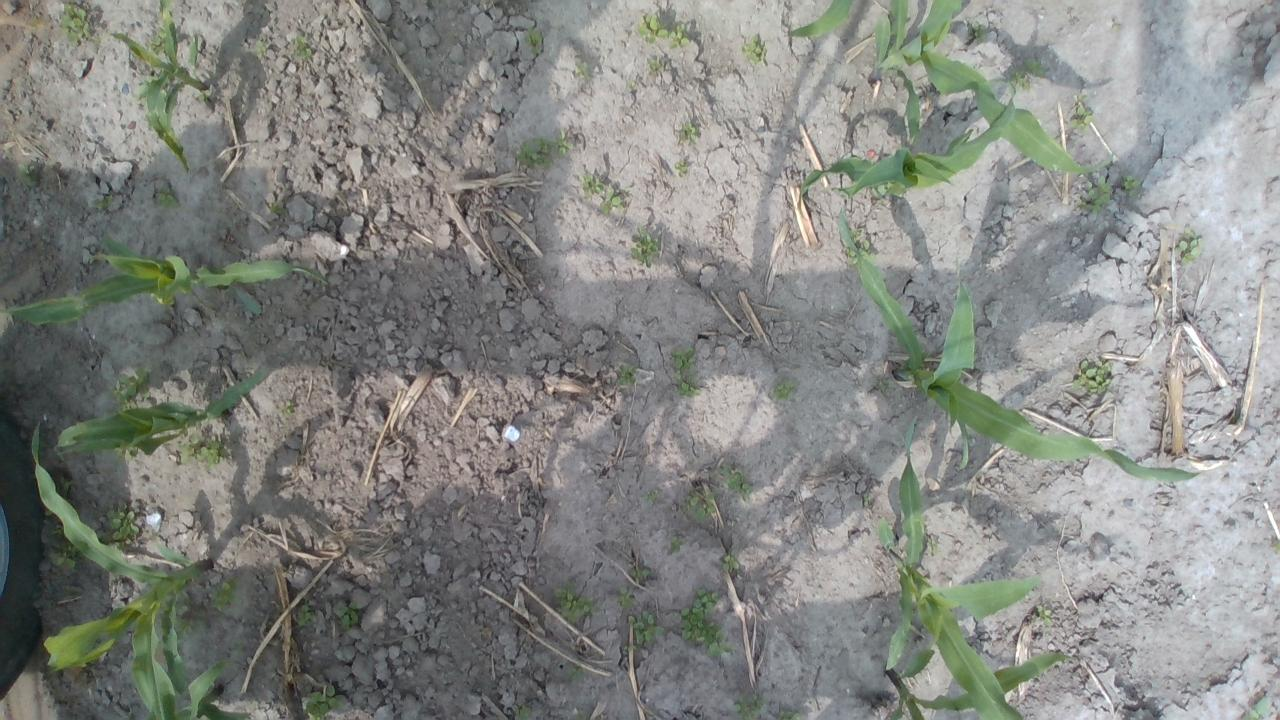Maize: (836, 207, 1208, 490), (785, 0, 1116, 176), (22, 419, 214, 720), (876, 414, 1042, 720), (0, 234, 331, 330), (798, 76, 1019, 204), (61, 367, 272, 455), (107, 0, 208, 173), (878, 647, 1071, 720), (170, 659, 250, 720)
Weeds: (679, 585, 734, 656), (176, 434, 231, 472), (110, 366, 150, 412), (554, 582, 594, 626), (105, 503, 140, 552), (672, 346, 702, 400), (59, 2, 92, 48), (1072, 358, 1112, 395), (1078, 174, 1112, 216), (304, 686, 346, 720), (627, 610, 668, 644), (717, 462, 753, 499), (517, 135, 554, 170), (630, 226, 659, 269), (177, 604, 209, 640), (1171, 226, 1201, 264), (686, 491, 721, 521), (844, 230, 873, 266), (334, 598, 362, 634), (637, 14, 669, 44), (213, 578, 243, 610), (734, 692, 768, 720), (1068, 95, 1094, 130), (48, 544, 78, 574), (1239, 694, 1271, 720), (740, 32, 766, 64), (522, 24, 546, 56), (674, 118, 701, 144), (552, 126, 572, 160), (774, 378, 802, 402), (16, 160, 40, 187), (600, 186, 623, 214), (136, 74, 158, 102), (616, 362, 640, 387), (1120, 174, 1143, 198), (292, 34, 312, 61), (149, 24, 166, 55), (578, 174, 604, 194), (670, 24, 690, 49), (1022, 56, 1046, 76), (113, 445, 141, 462), (1008, 69, 1028, 92), (296, 603, 316, 626), (158, 185, 178, 207), (720, 550, 738, 572), (573, 62, 593, 81), (616, 590, 634, 609), (630, 567, 650, 584), (968, 23, 986, 41), (1036, 606, 1052, 626), (276, 398, 294, 415), (564, 664, 583, 680), (95, 193, 114, 209), (776, 708, 801, 720), (254, 37, 268, 58), (515, 703, 532, 720), (670, 533, 684, 553), (645, 56, 663, 71), (269, 204, 288, 217), (924, 536, 936, 556), (672, 160, 688, 174), (646, 488, 660, 502), (624, 80, 638, 92), (199, 90, 213, 102), (624, 644, 641, 652), (862, 493, 872, 506), (88, 255, 96, 264)
